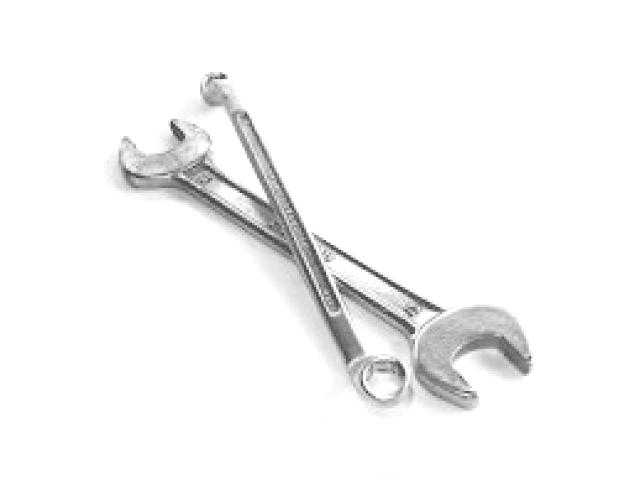Wrench: (116, 118, 532, 407), (202, 71, 408, 405)
